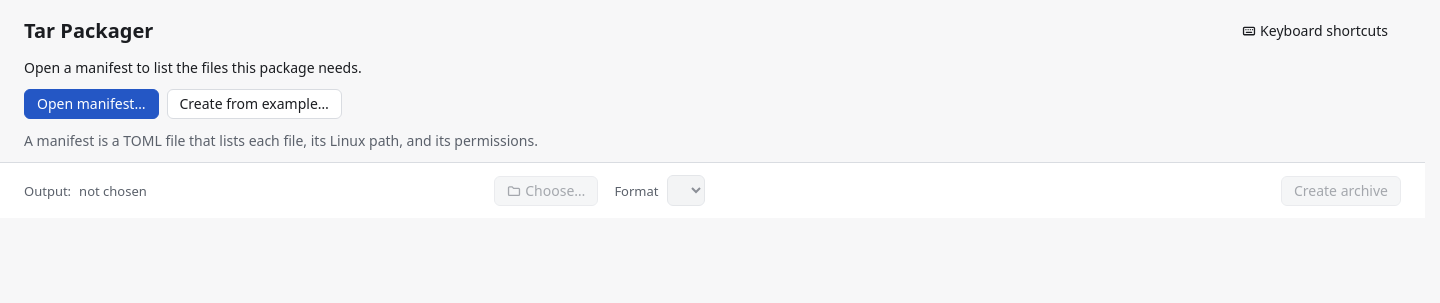
Test case: PathExists from Create from example leaves the no-manifest state
expect the heading "Tar Packager" is shown: met, box [24, 17, 153, 45]
Click the button "Create from example…".
click(254, 104)  # box [166, 89, 342, 119]
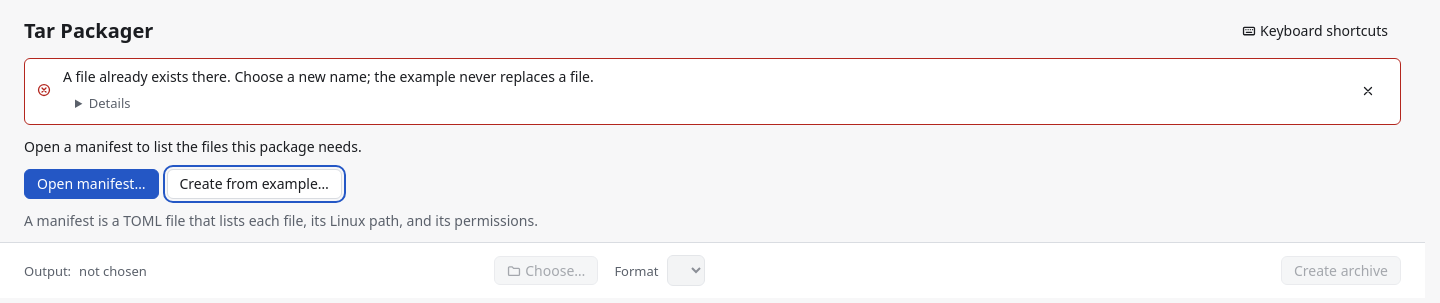
expect the button "Open manifest…" is shown: met, box [24, 169, 158, 199]
expect the message shows "A file already exists there.": met, box [63, 67, 594, 86]
